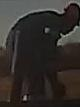helmet: (62, 2, 80, 23)
vest: (3, 10, 61, 53)
